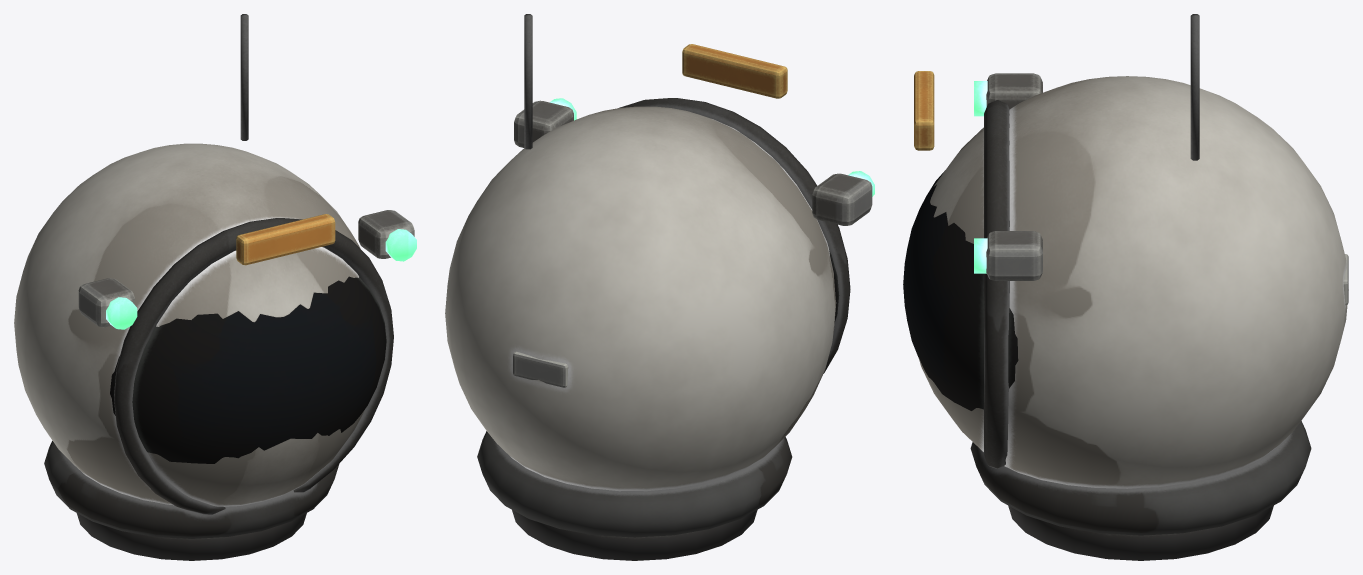
File: airlock_helmet.glb
3 renders of one model, left to right at view 1: azimuth 30°, elevation 25°; view 2: azimuth 150°, elevation 25°; view 3: azimuth 270°, elevation 25°, orthographic. The views are drawn at different scales.
Visible parts, largest first — view 1: Helmet; view 2: Helmet; view 3: Helmet.
Boxes of the visible parts, <box> form: Helmet: <box>14,14,416,560</box>; Helmet: <box>445,14,874,560</box>; Helmet: <box>903,14,1348,560</box>.
Size of the model in its own units: 0.375 by 0.52 by 0.3949.
7 materials, 7 textured.
